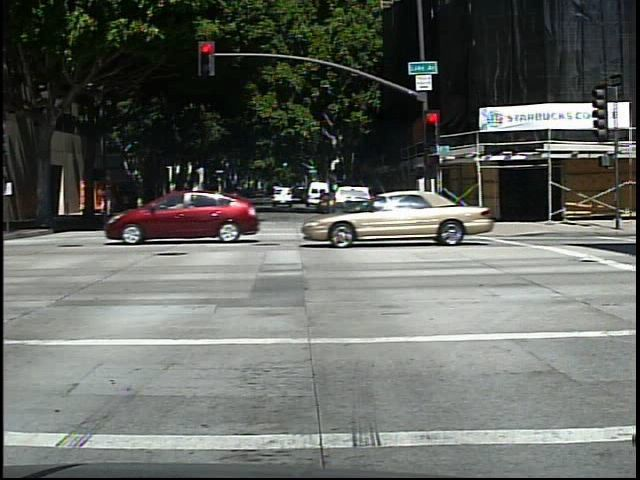person: (95, 184, 123, 236)
